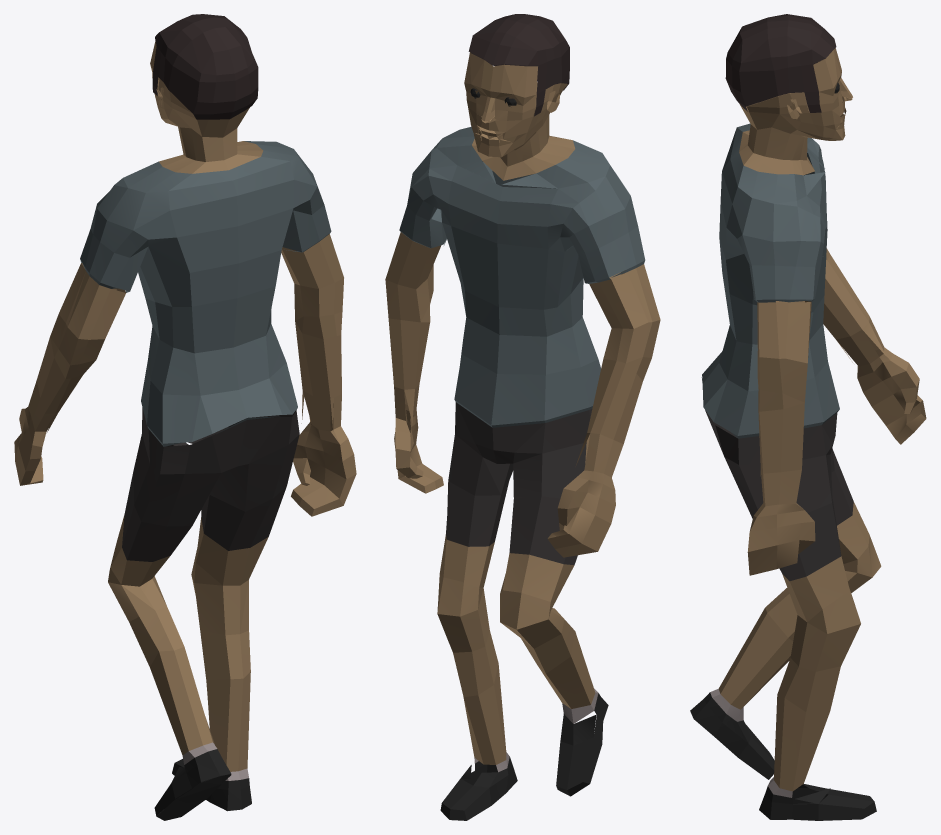
File: person_3_w0.fbx
3 renders of one model, left to right at view 1: azimuth 30°, elevation 25°; view 2: azimuth 150°, elevation 25°; view 3: azimuth 270°, elevation 25°, orthographic.
Parts seen in each view (by area): view 1: BaseHuman; view 2: BaseHuman; view 3: BaseHuman.
Part boxes in pixels (x1,y1,x2,y2): BaseHuman: [14, 14, 356, 820]; BaseHuman: [385, 14, 660, 820]; BaseHuman: [690, 14, 926, 820].
Size of the model in its own units: 0.3587 by 1 by 0.2752.
